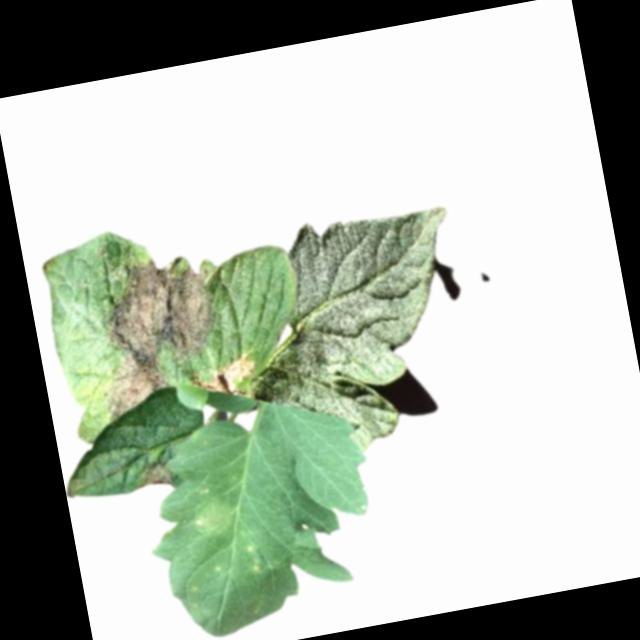Late_blight: (80, 247, 233, 421), (192, 348, 259, 402), (189, 496, 238, 543), (132, 456, 179, 491), (245, 558, 268, 580)
healthy: (224, 195, 489, 469)
